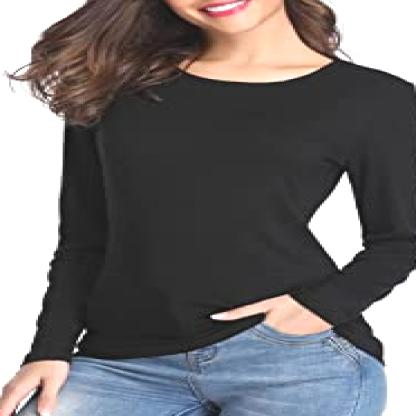dress: (15, 30, 416, 366)
